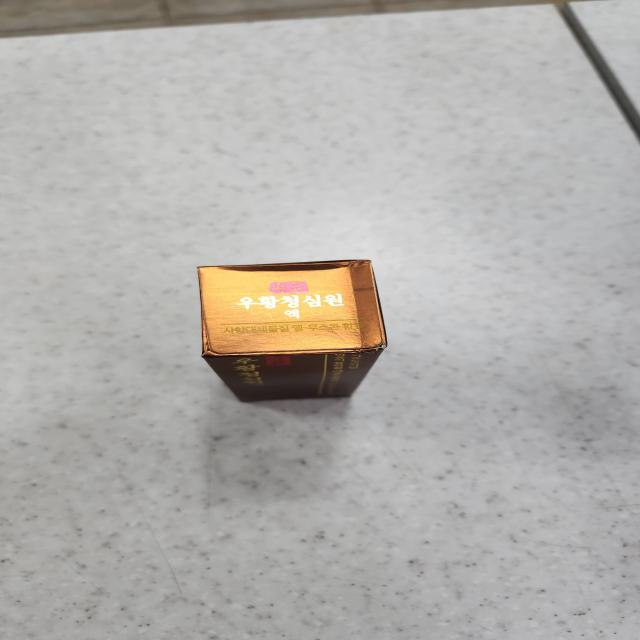box: (199, 261, 386, 398)
